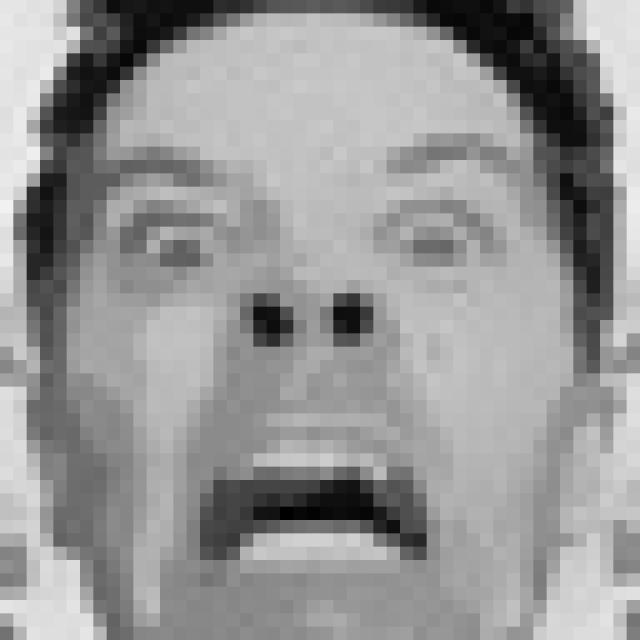angry: (79, 137, 534, 592)
